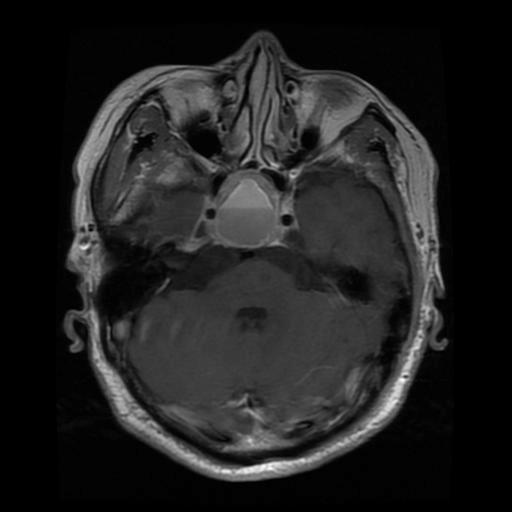Tumour-Pituitary: (206, 169, 292, 251)
